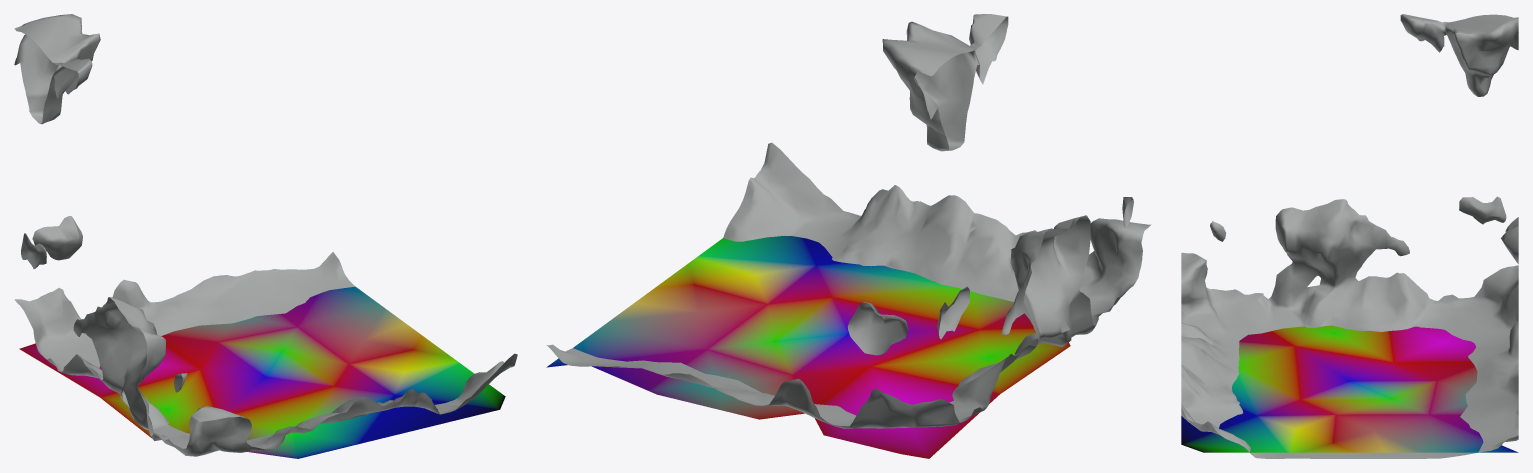
The picture shows the model from 3 angles, left to right: view 1: azimuth 30°, elevation 25°; view 2: azimuth 150°, elevation 25°; view 3: azimuth 270°, elevation 25°; orthographic projection. The views are drawn at different scales.
Visible parts, largest first — view 1: G:\FFXIV-MapTools\exports\l1f1\bg\ffxiv\lak_l1\fld\l1f1\bgpl (×13); view 2: G:\FFXIV-MapTools\exports\l1f1\bg\ffxiv\lak_l1\fld\l1f1\bgpl (×14); view 3: G:\FFXIV-MapTools\exports\l1f1\bg\ffxiv\lak_l1\fld\l1f1\bgpl (×14).
Part boxes in pixels (bbox=[...]): G:\FFXIV-MapTools\exports\l1f1\bg\ffxiv\lak_l1\fld\l1f1\bgpl (×13): bbox=[14, 17, 517, 458]; G:\FFXIV-MapTools\exports\l1f1\bg\ffxiv\lak_l1\fld\l1f1\bgpl (×14): bbox=[546, 14, 1151, 458]; G:\FFXIV-MapTools\exports\l1f1\bg\ffxiv\lak_l1\fld\l1f1\bgpl (×14): bbox=[1181, 14, 1518, 458].
Bounding box in the file's own units: 128 × 130 × 128.
